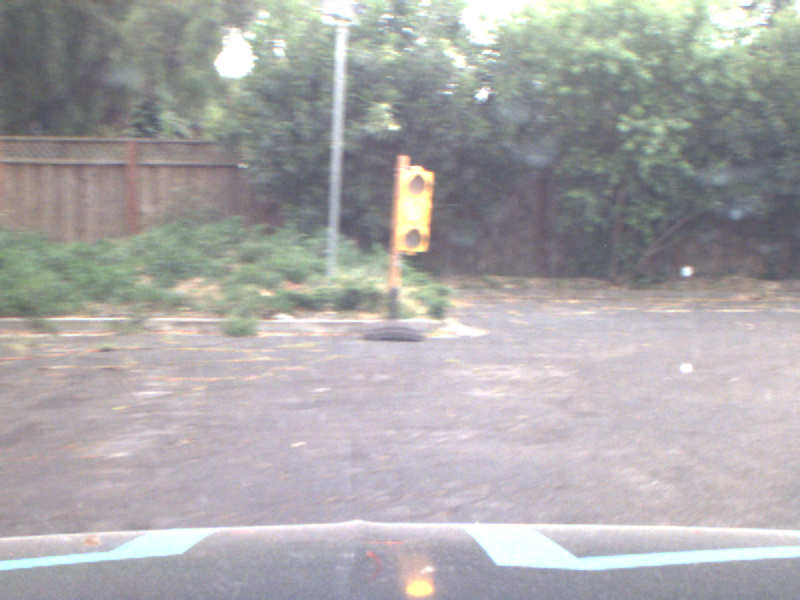Yellow: (395, 165, 428, 254)
